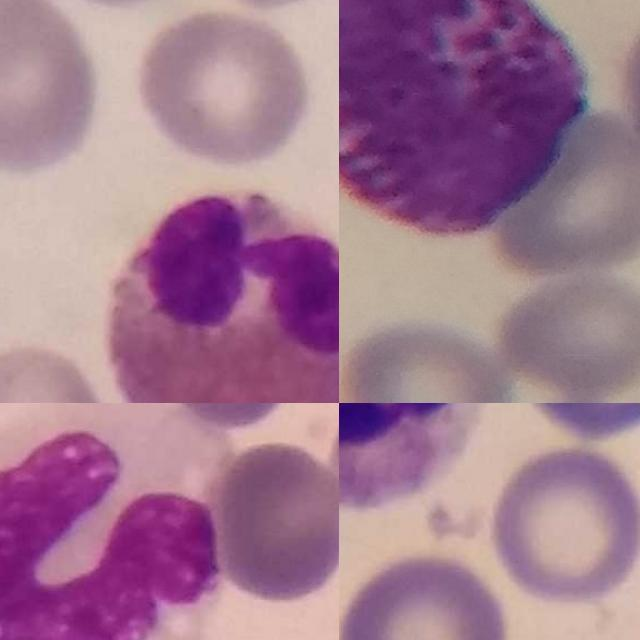Basophil: (339, 0, 589, 242)
Eosinophil: (104, 193, 339, 403)
Monocyte: (0, 403, 224, 640)
Neutrophil: (339, 403, 484, 507)
